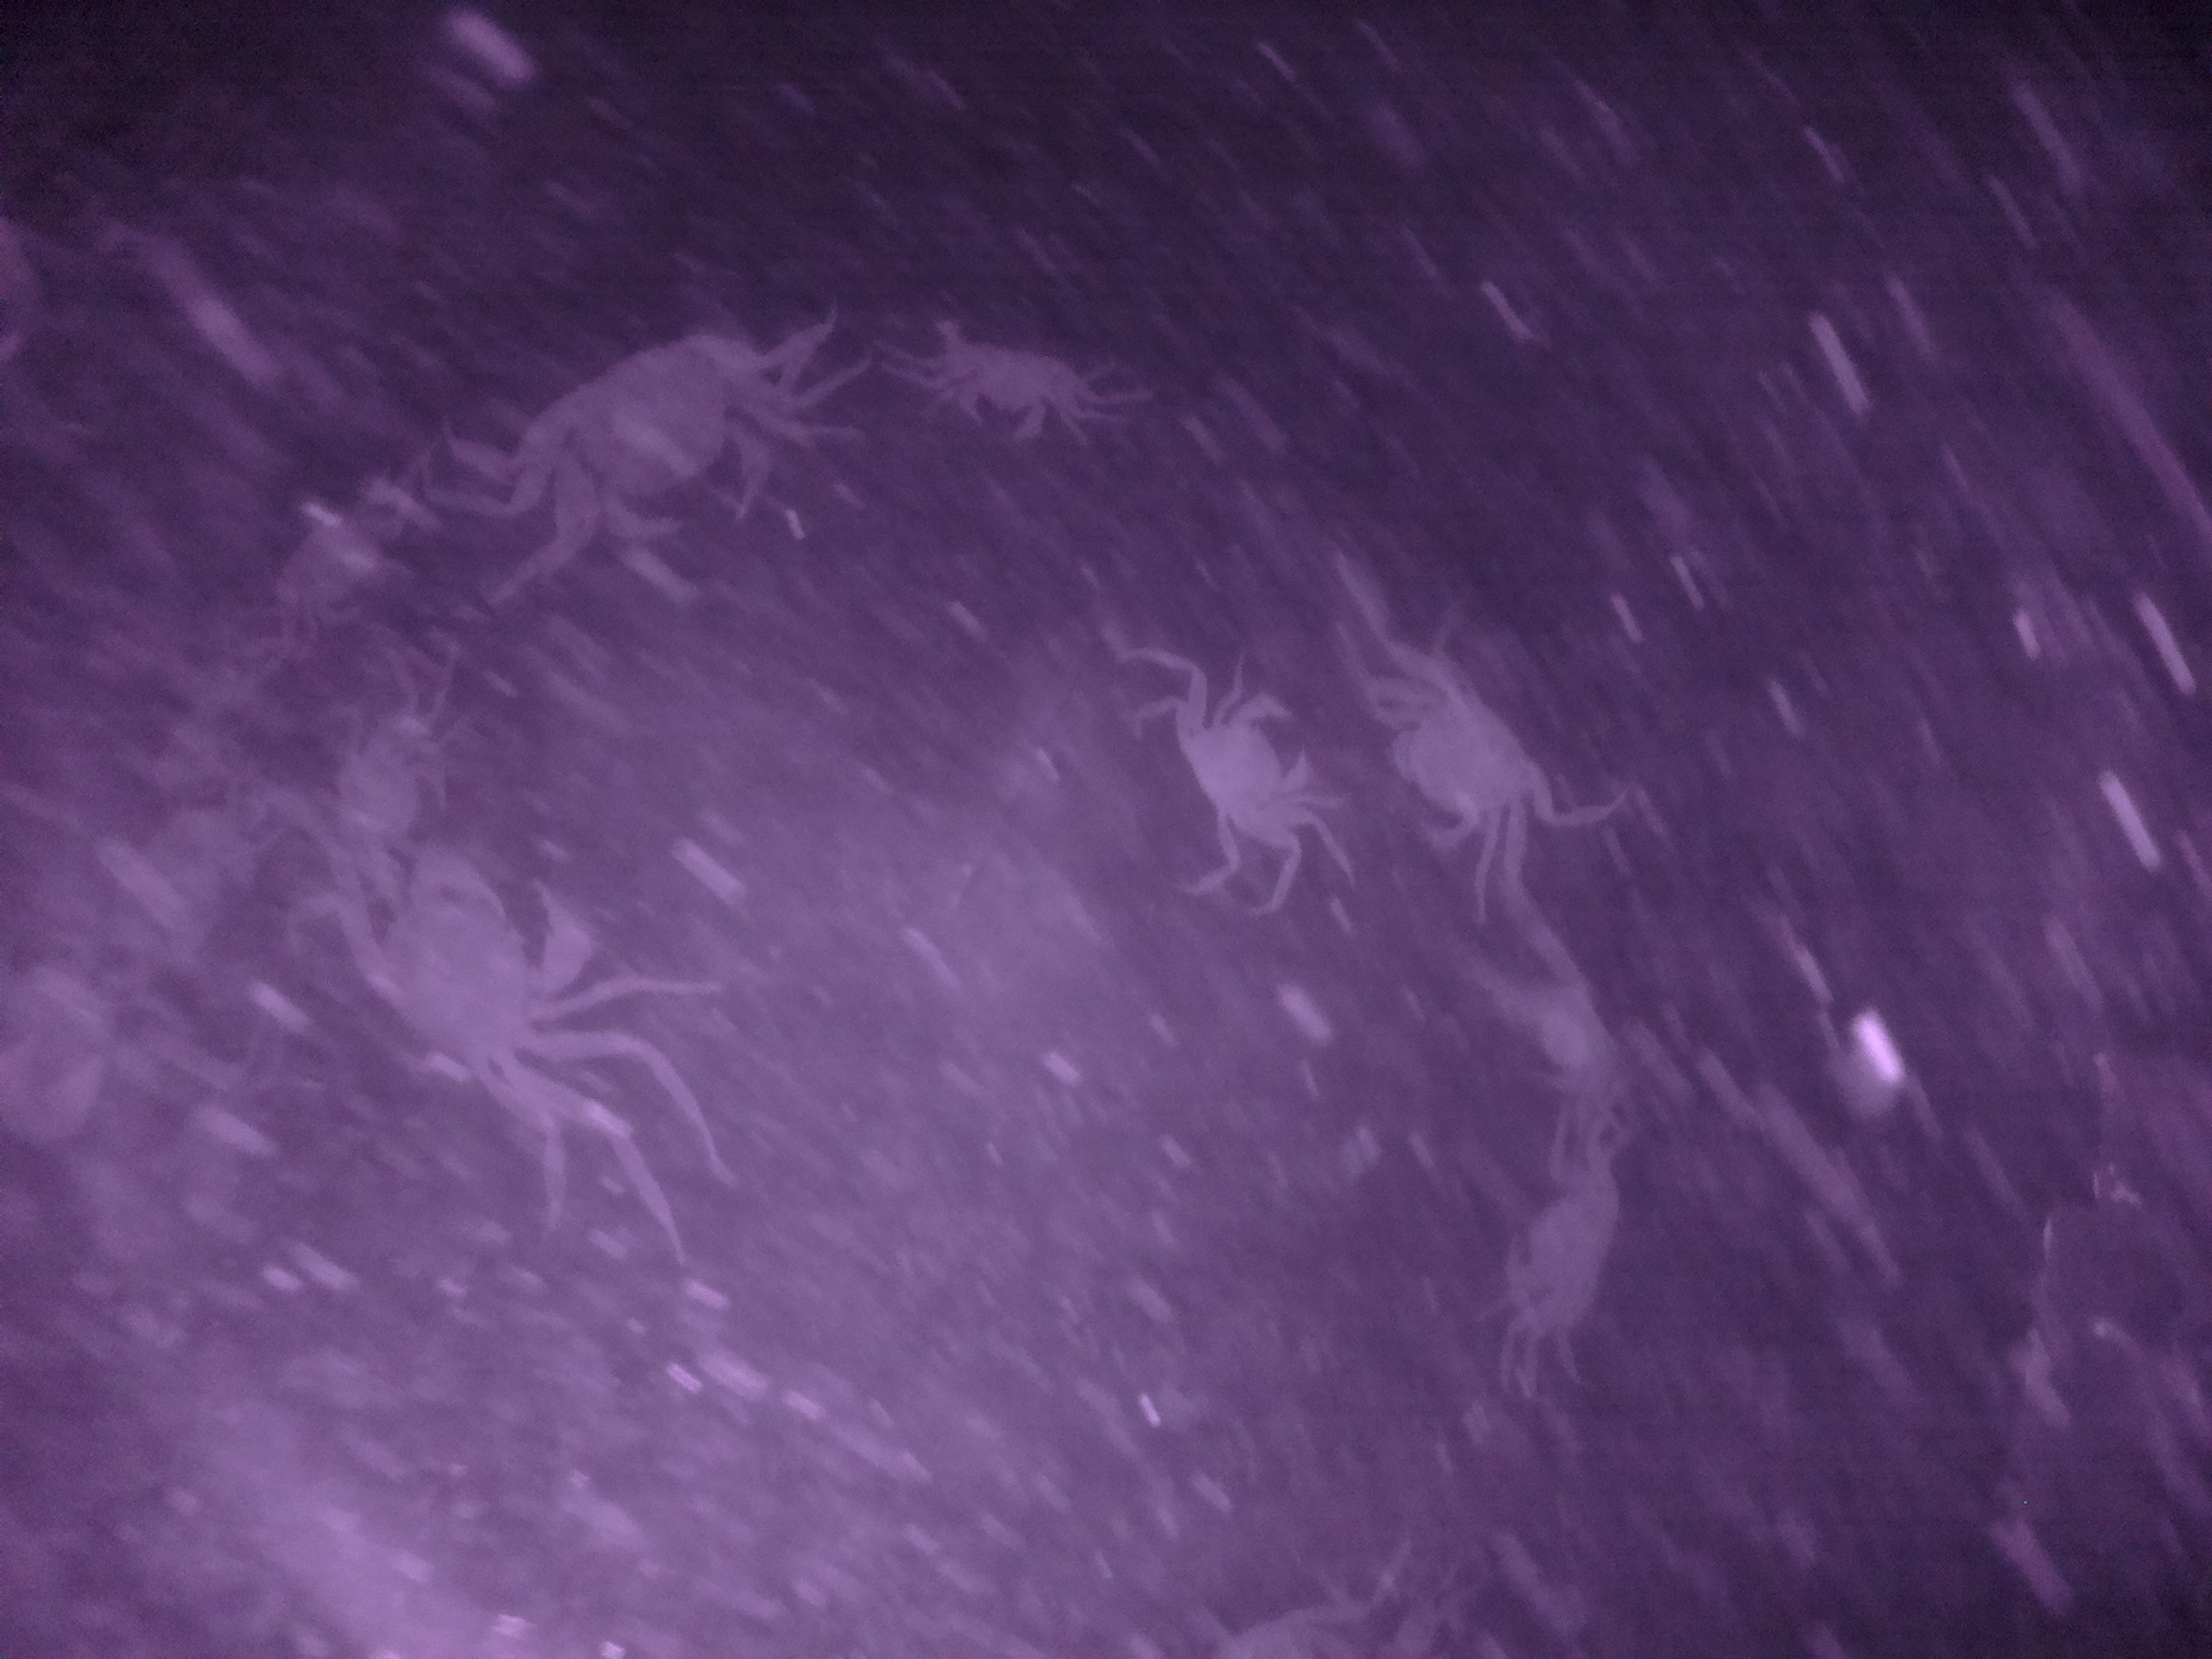Crab: (512, 324, 796, 579), (1355, 662, 1597, 842), (1148, 671, 1338, 873), (935, 336, 1101, 446)
